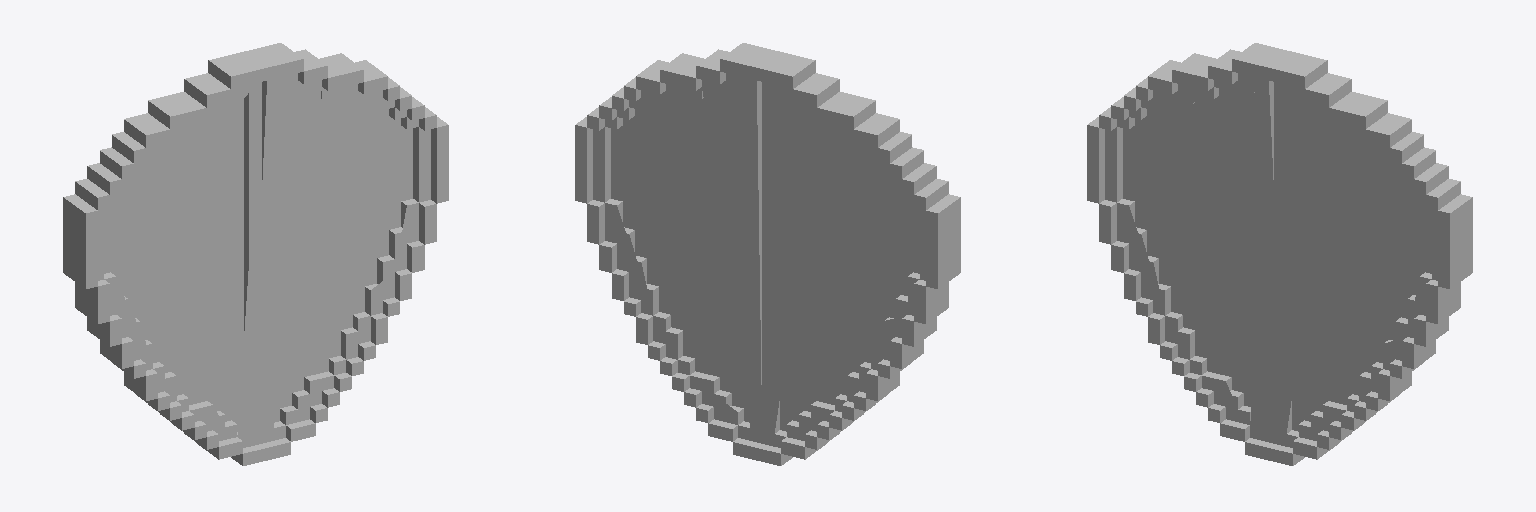
The model's file is Armor.obj.
3 views of the same model, side by side, from view 1: azimuth 30°, elevation 25°; view 2: azimuth 150°, elevation 25°; view 3: azimuth 330°, elevation 25° (orthographic).
Parts seen in each view (by area): view 1: Armor_Plane.074; view 2: Armor_Plane.074; view 3: Armor_Plane.074.
Part boxes in pixels (x1,y1,x2,y2): Armor_Plane.074: (63, 43, 448, 465); Armor_Plane.074: (575, 43, 960, 465); Armor_Plane.074: (1087, 43, 1472, 465).
Bounding box in the file's own units: 1.88 × 1.94 × 0.2.